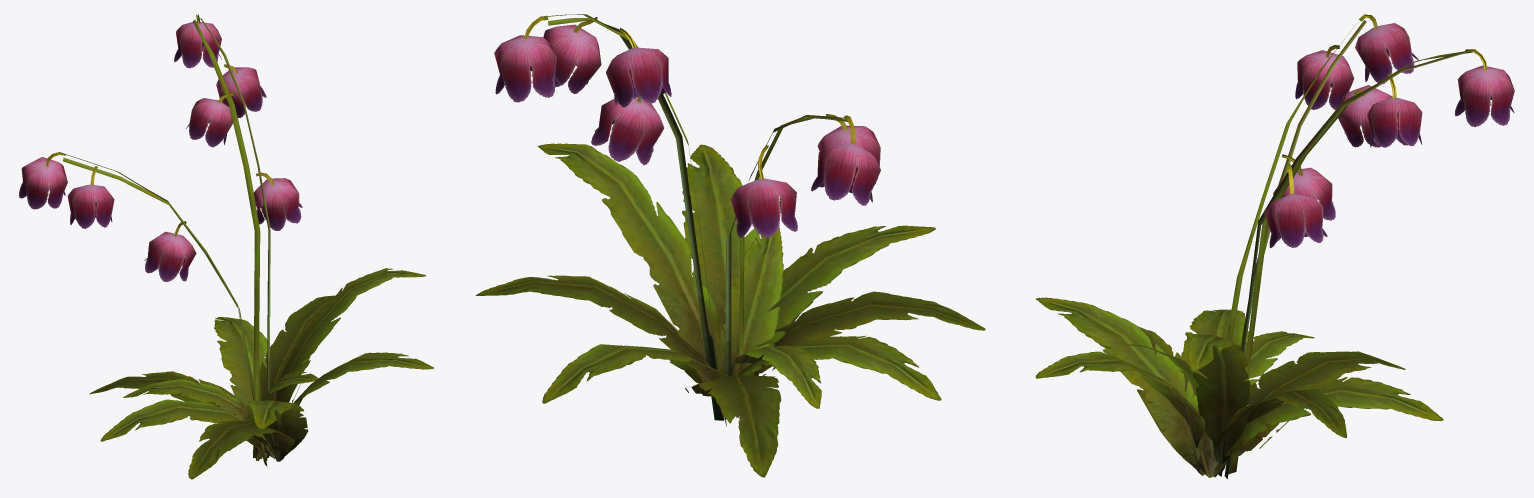
Rendered from map_112_guanmu_4.fbx.
The picture shows the model from 3 angles, left to right: view 1: azimuth 30°, elevation 25°; view 2: azimuth 150°, elevation 25°; view 3: azimuth 270°, elevation 25°; orthographic projection. The views are drawn at different scales.
Parts seen in each view (by area): view 1: map_112_shu_14; view 2: map_112_shu_14; view 3: map_112_shu_14.
Part boxes in pixels (x1,y1,x2,y2): map_112_shu_14: [19, 14, 434, 479]; map_112_shu_14: [475, 14, 985, 477]; map_112_shu_14: [1035, 14, 1514, 479].
Size of the model in its own units: 0.5936 by 0.6205 by 0.6261.
